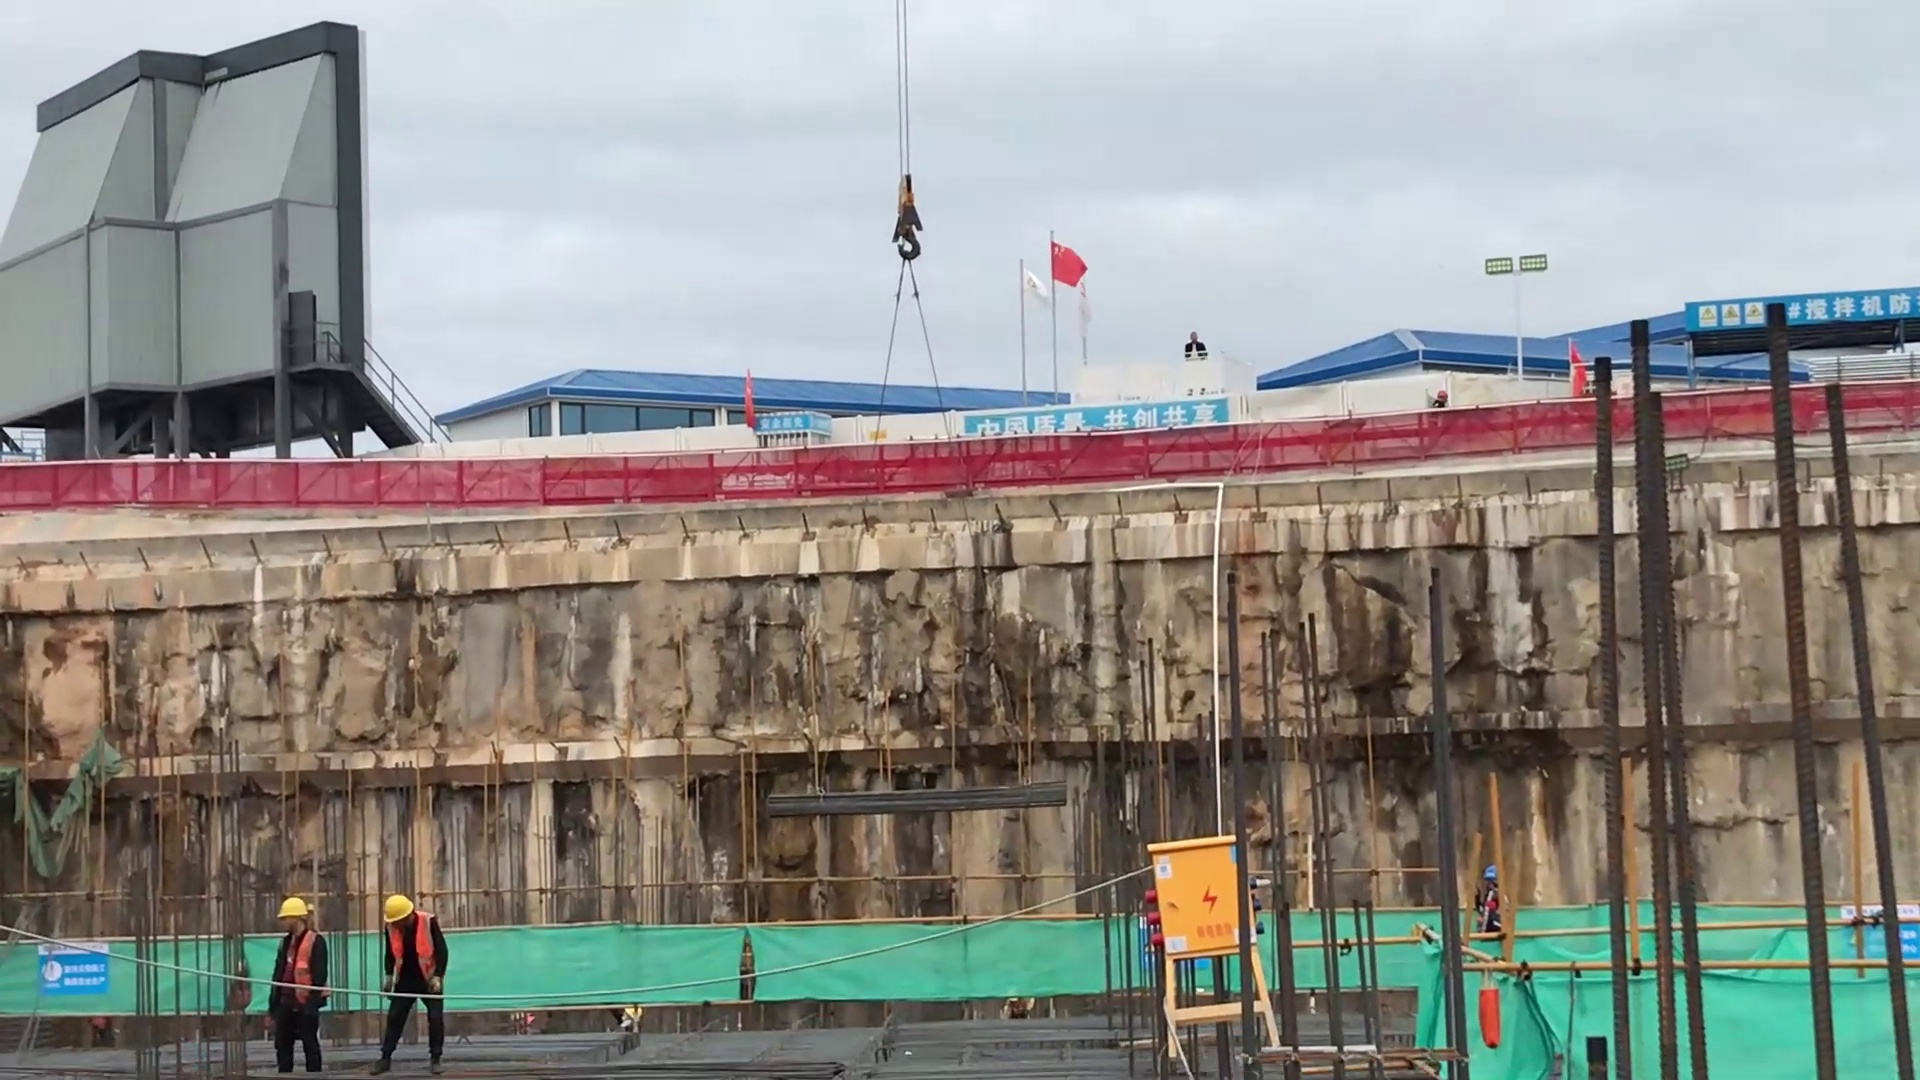ebox: (1135, 822, 1285, 1061)
fence: (4, 443, 711, 529), (1140, 390, 1582, 515), (712, 431, 1134, 498), (1662, 361, 1920, 435)
helmet: (270, 896, 324, 926), (379, 897, 431, 923), (1433, 388, 1450, 400)
hook: (883, 165, 936, 282)
person: (371, 896, 467, 1072), (251, 899, 338, 1080), (1178, 322, 1212, 361), (1428, 383, 1451, 410)
slogan: (1662, 262, 1920, 344), (962, 394, 1261, 449), (27, 936, 135, 1001), (749, 397, 832, 438)
vest: (264, 929, 333, 1013), (375, 925, 453, 988)
